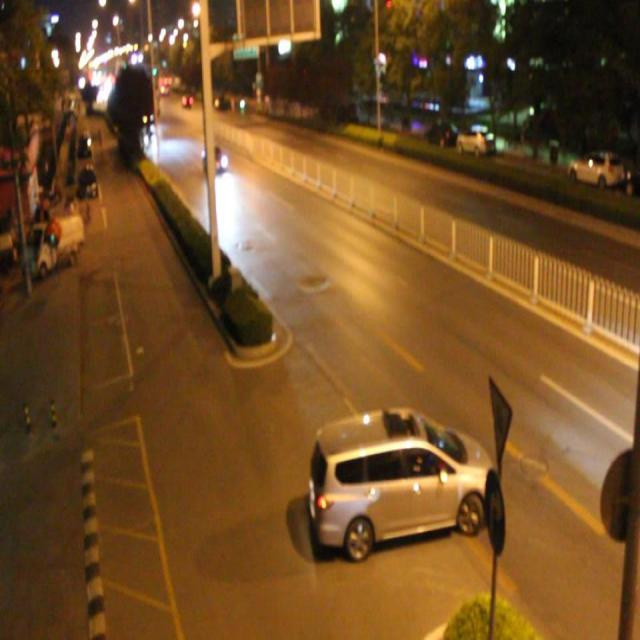car: (311, 410, 492, 548), (201, 147, 225, 173)
